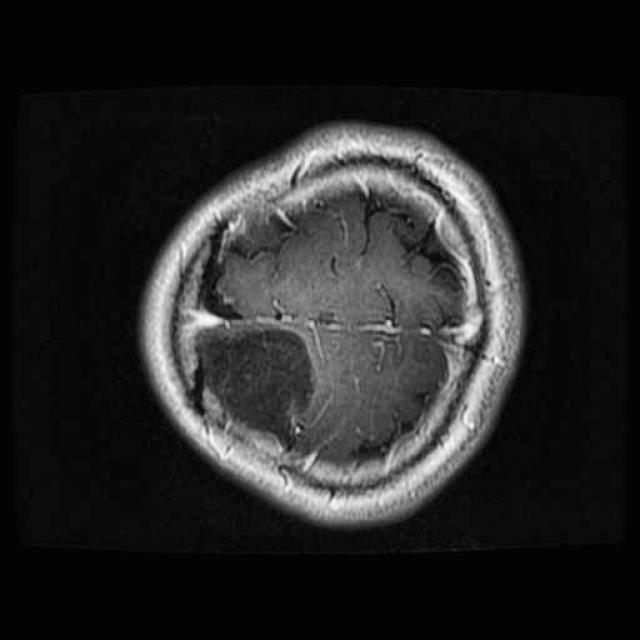Non-Tumor: (186, 310, 328, 464)
